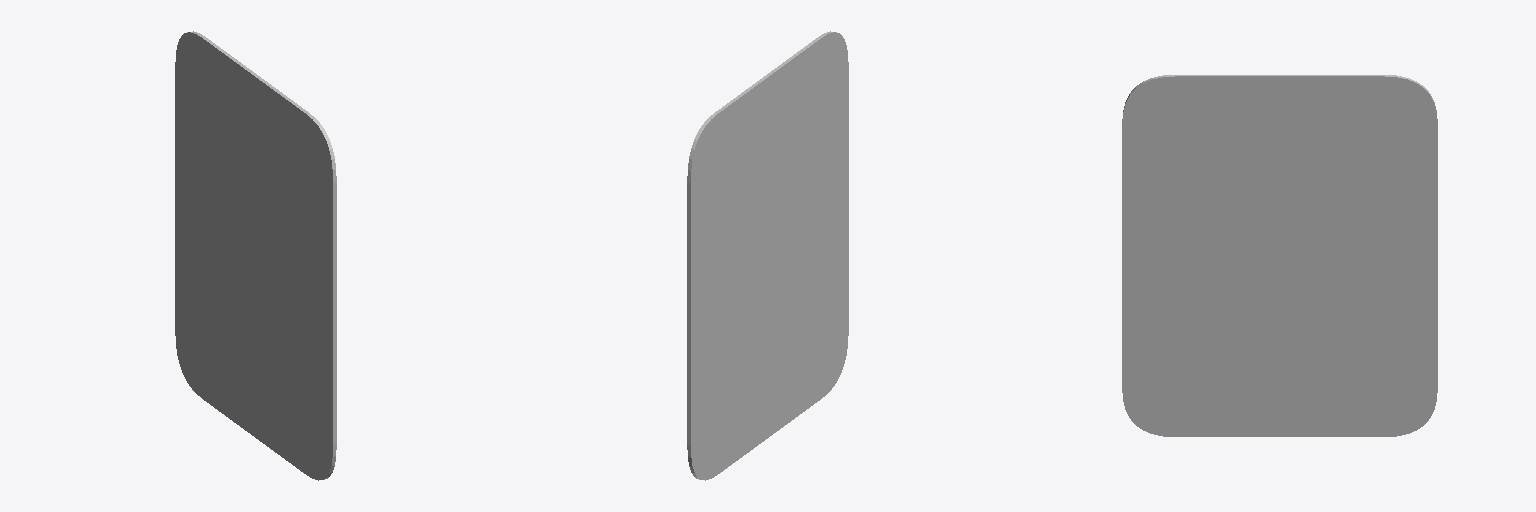
The model's file is case_glass.obj.
The picture shows the model from 3 angles: view 1: azimuth 30°, elevation 25°; view 2: azimuth 150°, elevation 25°; view 3: azimuth 270°, elevation 25°; orthographic projection.
Visible parts, largest first — view 1: glass; view 2: glass; view 3: glass.
Boxes of the visible parts, x1,y1,x2,y2 form: glass: [175, 31, 336, 480]; glass: [687, 31, 848, 480]; glass: [1122, 75, 1437, 436].
Size of the model in its own units: 2 by 193 by 153.